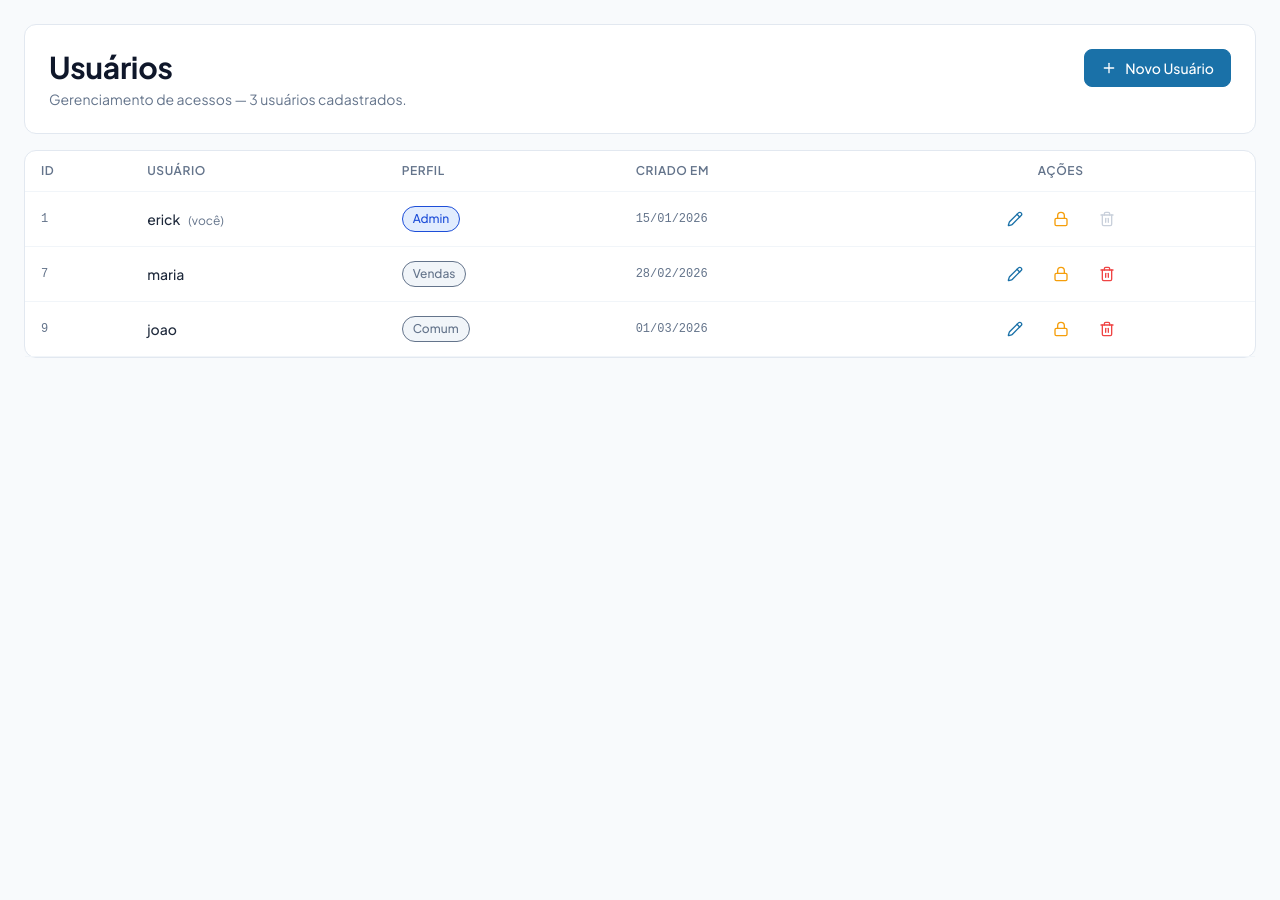
Test: Usuários — modal de criação › recusa nome de usuário vazio
Expected: the table is shown, [25,151,1255,357]
Click the button "Novo Usuário".
click(1158, 68)  # box [1084,49,1231,87]
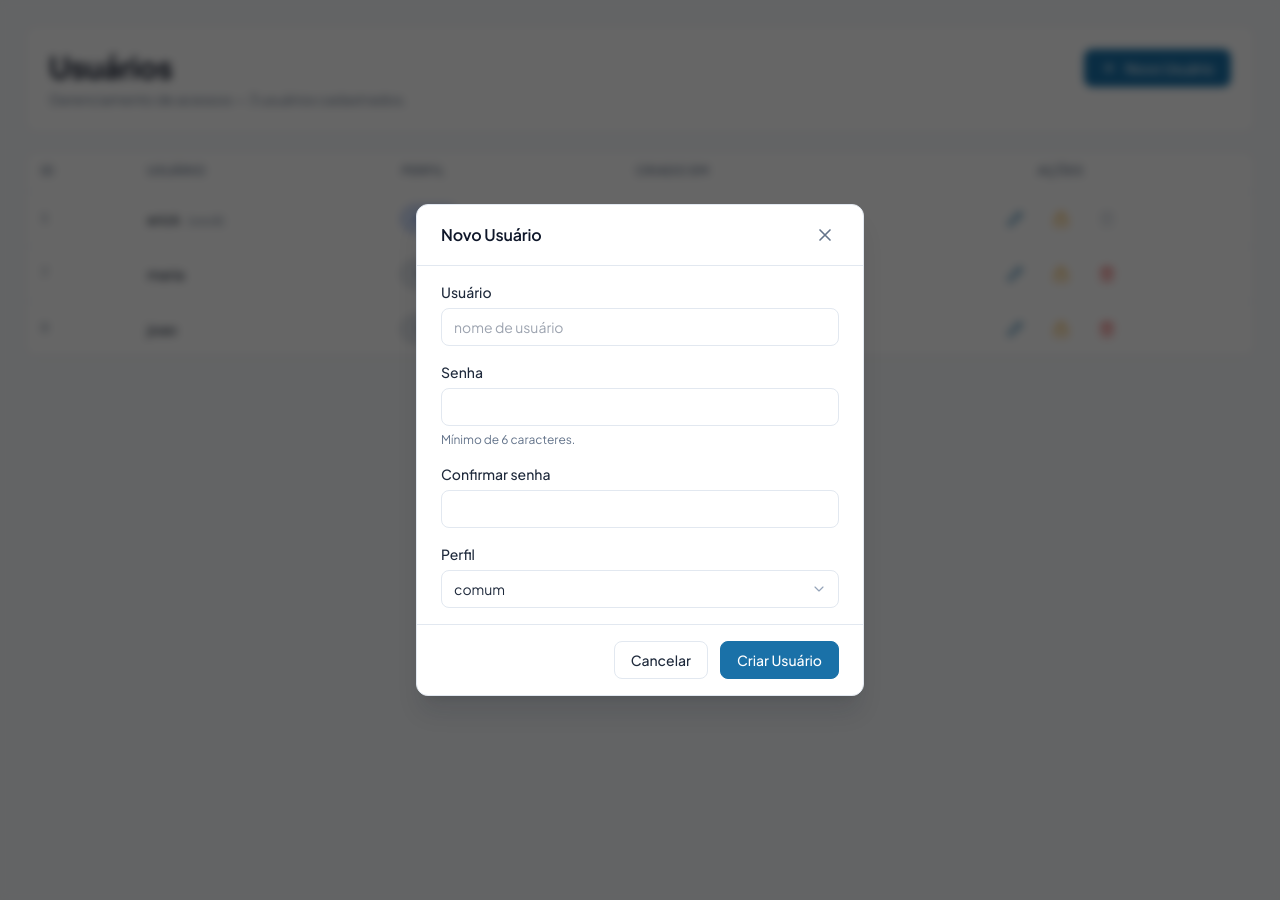
Click the button "Criar Usuário".
click(779, 660)  # box [720,641,839,679]
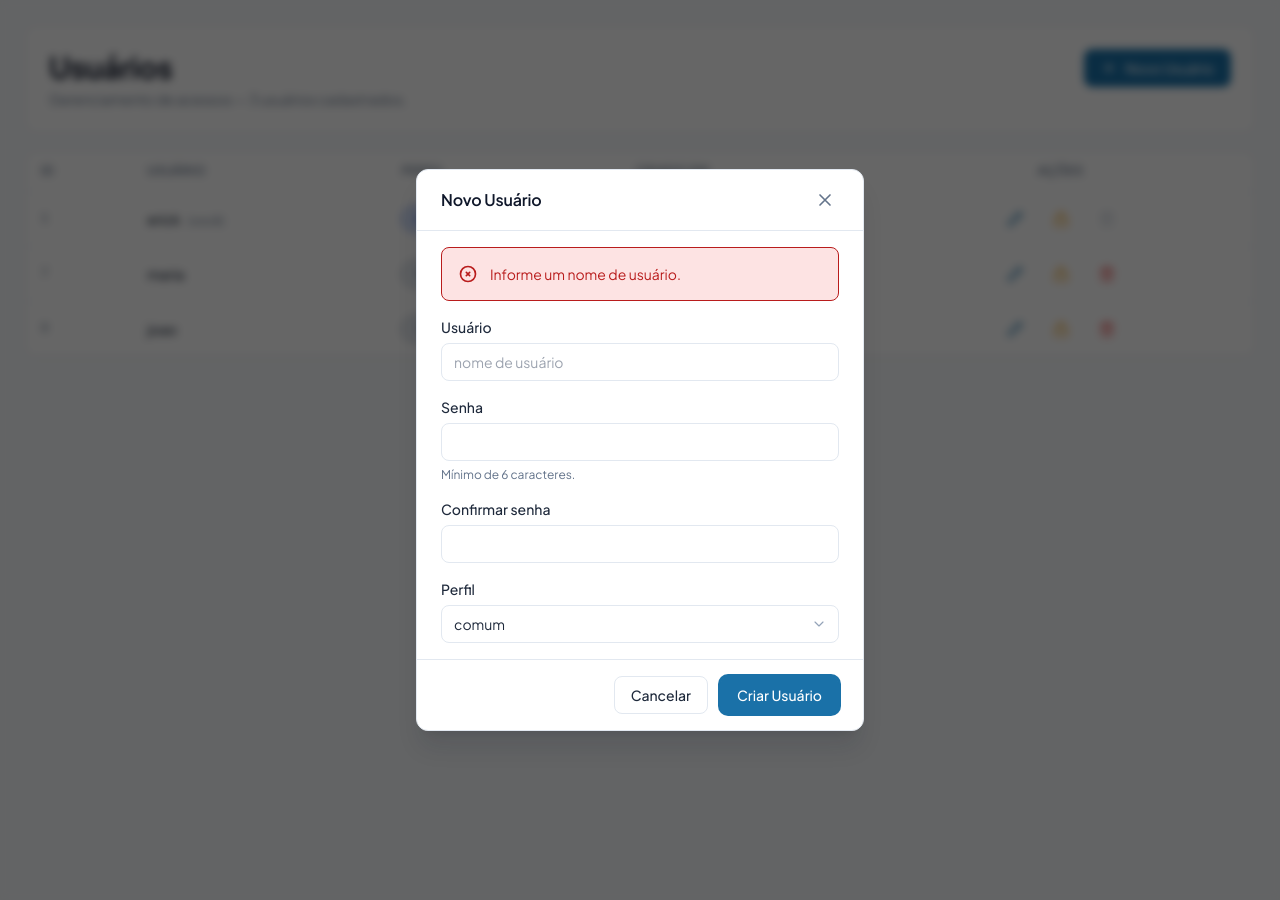
Result: the text "Informe um nome de usuário." is shown at [490,265,681,283]
